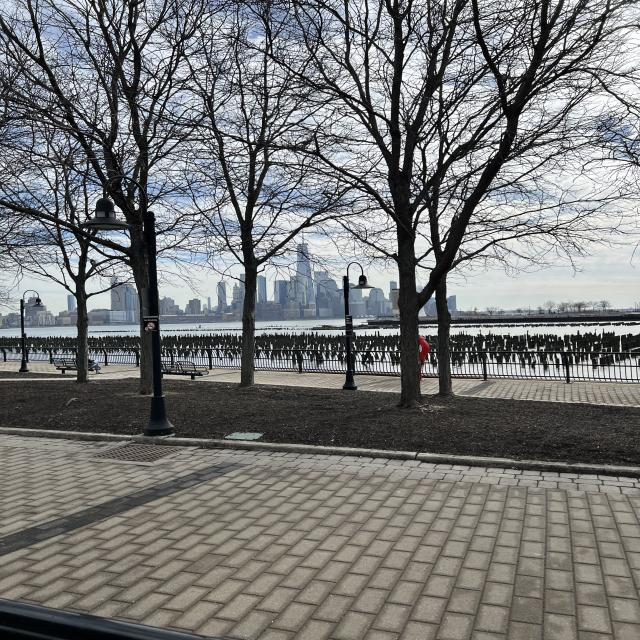WTC: (297, 228, 313, 276)
